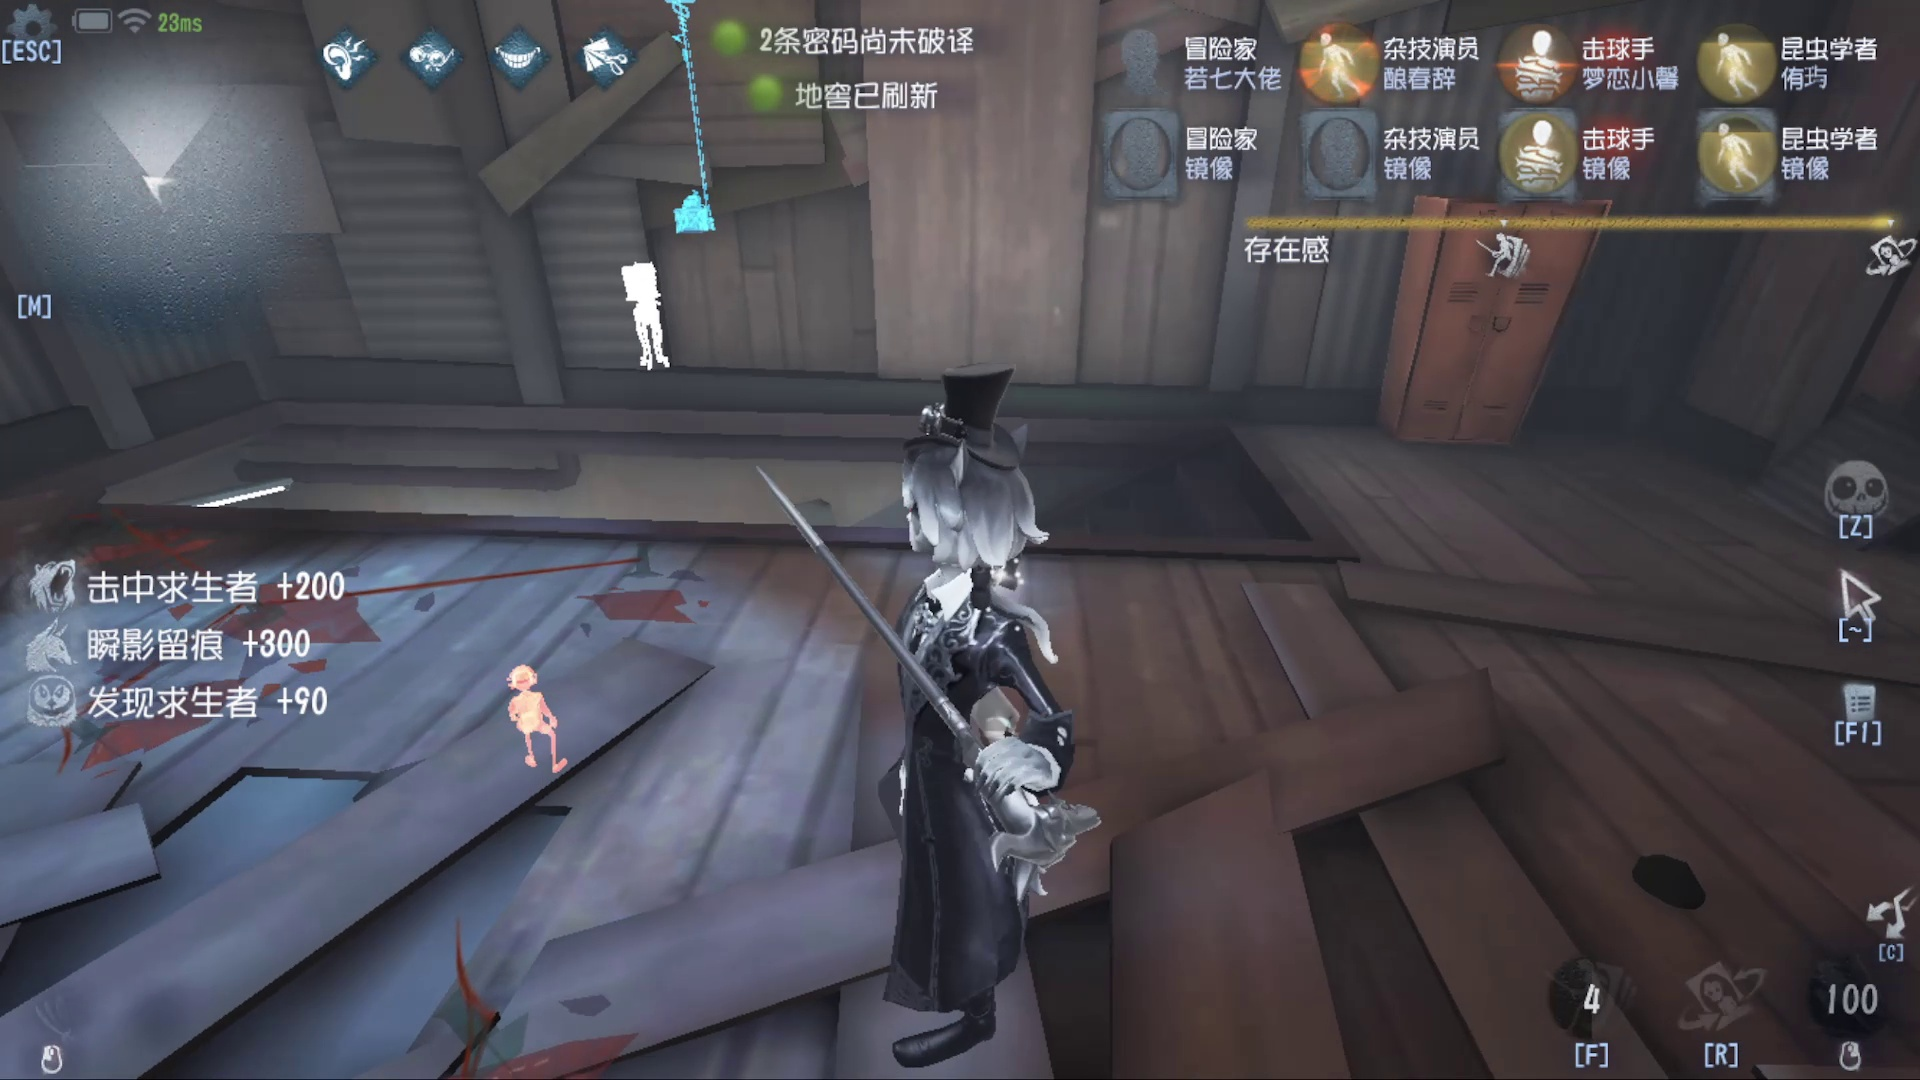密码机: (624, 7, 750, 248)
求生者: (475, 646, 571, 781)
